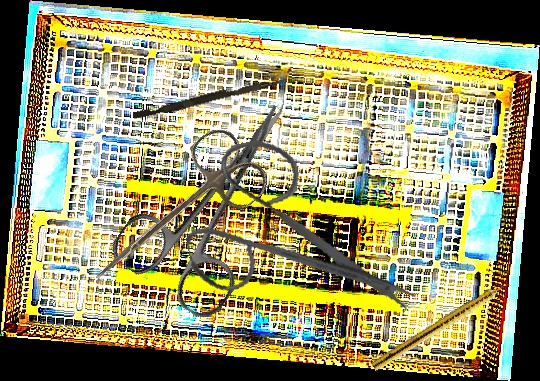Handpiece: (370, 277, 514, 375)
Iris Scissors: (170, 116, 418, 350), (105, 74, 335, 326), (71, 120, 276, 313)
Pusher: (132, 71, 288, 124)
